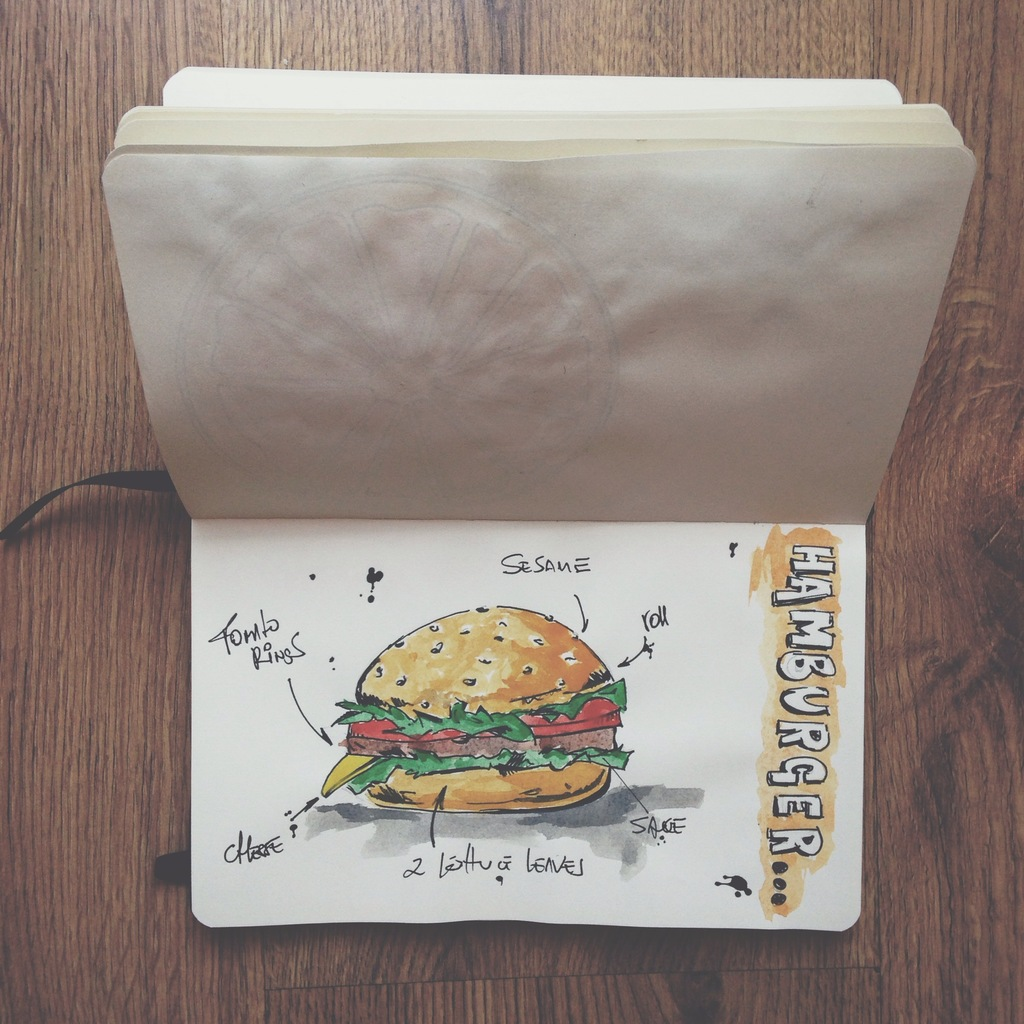Hamburger: (330, 608, 652, 833)
